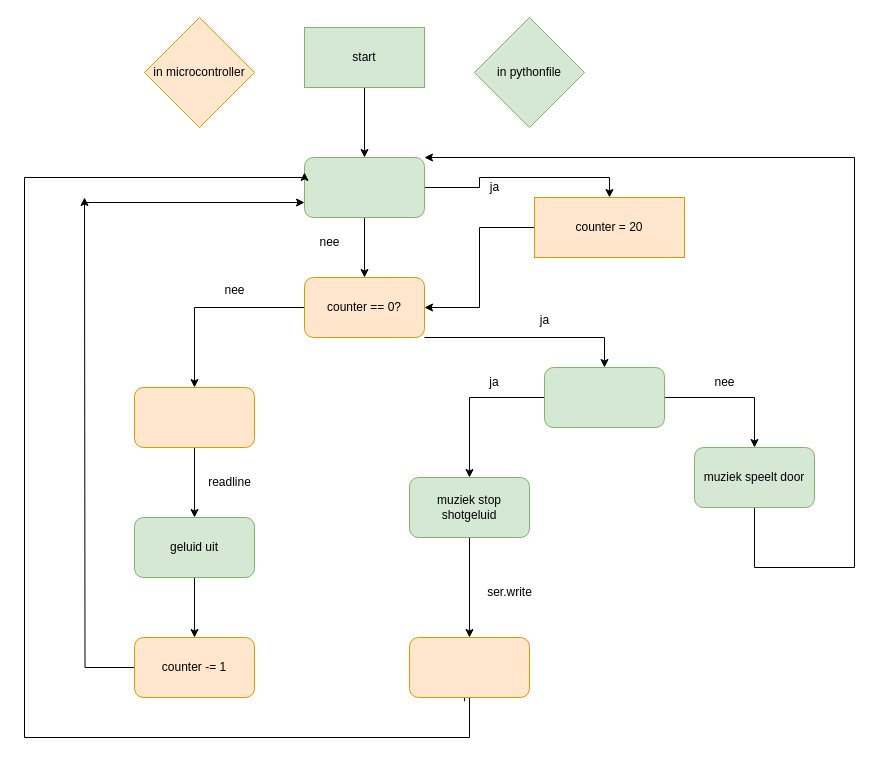
This 880x763 diagram has some shape labels left out. The centre of each missing label's shape, as x and y in pixels:
"iemand in beeld? (len(boxes))" belongs at (x=364, y=187).
"is de juiste target geraakt" belongs at (x=604, y=397).
"ledstrip uit" belongs at (x=194, y=417).
"nieuwe setpoint ledanimatie schot" belongs at (x=469, y=667).
